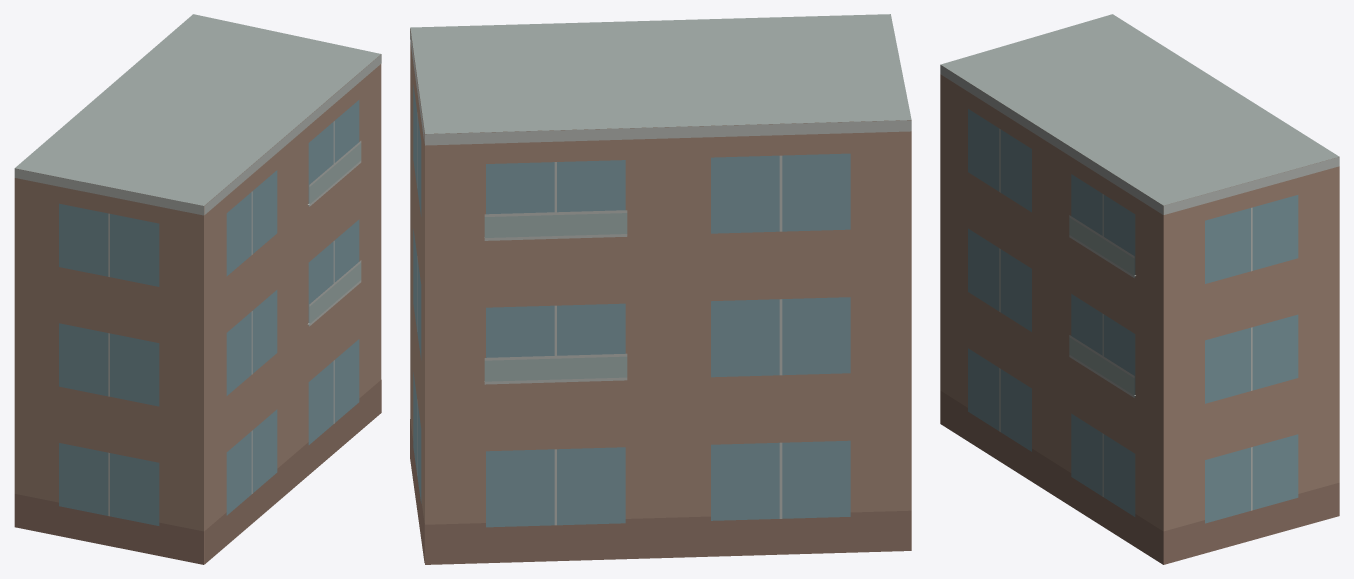
The model's file is survey-upis-32815605.glb.
3 renders of one model, left to right at view 1: azimuth 30°, elevation 25°; view 2: azimuth 150°, elevation 25°; view 3: azimuth 270°, elevation 25°, orthographic. The views are drawn at different scales.
Parts seen in each view (by area): view 1: survey-upis-32815605.tmp; view 2: survey-upis-32815605.tmp; view 3: survey-upis-32815605.tmp.
Part boxes in pixels (x1=…): survey-upis-32815605.tmp: x1=14, y1=14, x2=381, y2=564; survey-upis-32815605.tmp: x1=410, y1=14, x2=911, y2=564; survey-upis-32815605.tmp: x1=940, y1=14, x2=1339, y2=564.
Size of the model in its own units: 10.48 by 9.15 by 9.23.
